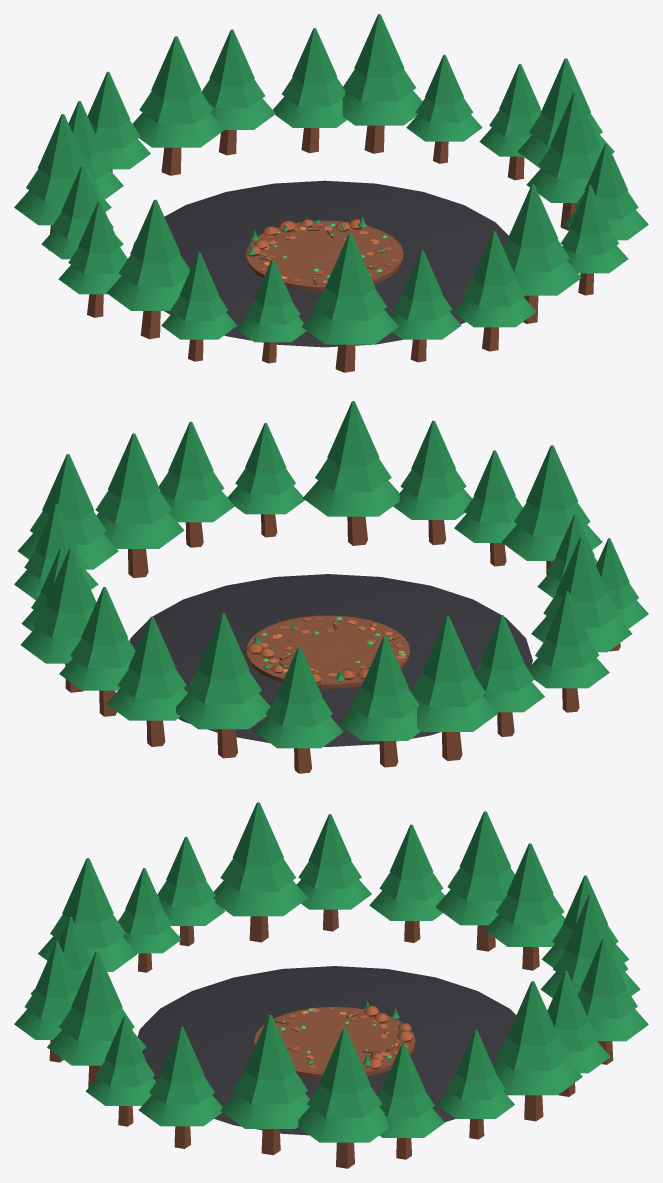
Rendered from bramble_hog.glb.
3 views of the same model, one above another, from view 1: azimuth 30°, elevation 25°; view 2: azimuth 150°, elevation 25°; view 3: azimuth 270°, elevation 25° (orthographic). The views are drawn at different scales.
Parts seen in each view (by area): view 1: BrambleHogGround; view 2: BrambleHogGround; view 3: BrambleHogGround.
Boxes of the visible parts, x1,y1,x2,y2 form: BrambleHogGround: (14, 14, 648, 372); BrambleHogGround: (14, 401, 648, 773); BrambleHogGround: (14, 802, 648, 1168).
Size of the model in its own units: 47.53 by 11.9 by 47.15.
1 material, 1 textured.
